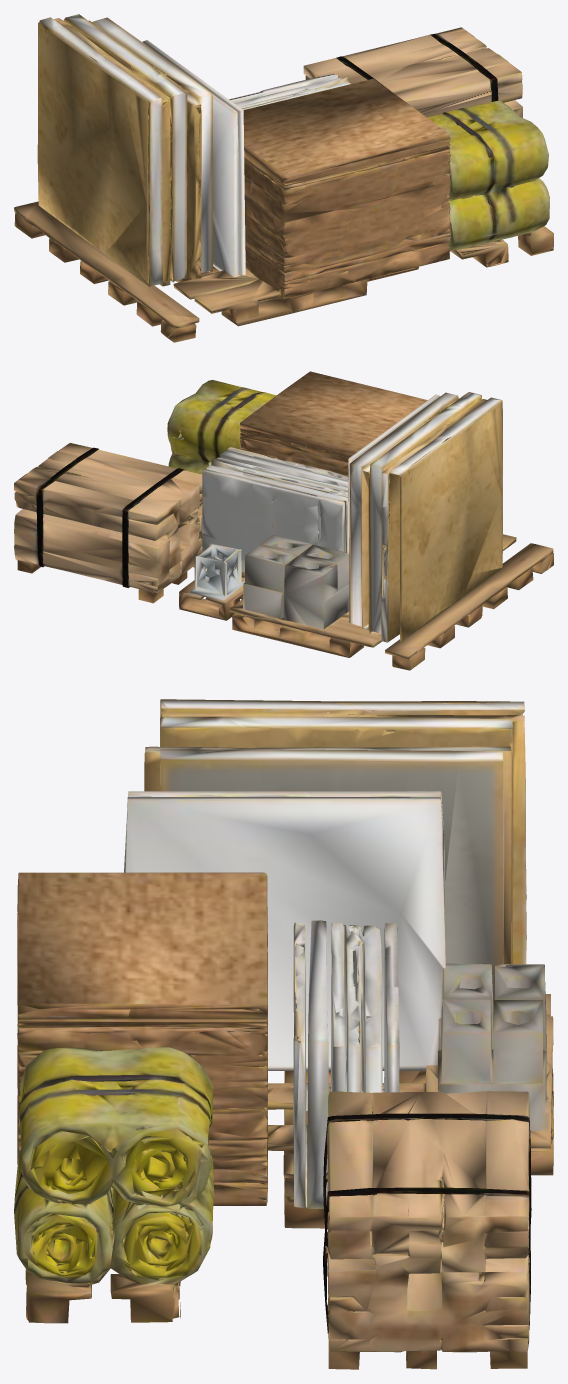
File: lumber-standard.glb
3 views of the same model, one above another, from view 1: azimuth 30°, elevation 25°; view 2: azimuth 150°, elevation 25°; view 3: azimuth 270°, elevation 25° (orthographic). The views are drawn at different scales.
Parts seen in each view (by area): view 1: geometry_0; view 2: geometry_0; view 3: geometry_0.
Part boxes in pixels (x1=…): geometry_0: x1=14, y1=14, x2=553, y2=342; geometry_0: x1=14, y1=371, x2=553, y2=670; geometry_0: x1=14, y1=699, x2=553, y2=1369.
Bounding box in the file's own units: 1 × 0.452 × 0.6531.
Materials: 1 (1 with a texture image).
